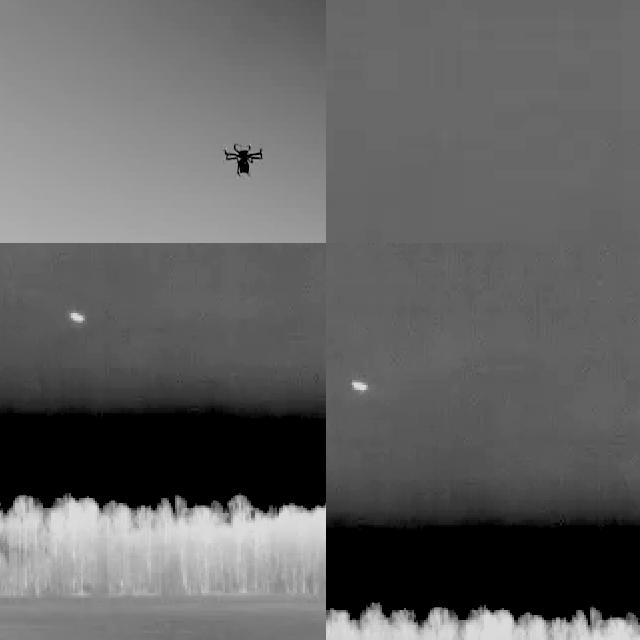1: (57, 304, 93, 334), (341, 375, 377, 405)
drone: (225, 138, 262, 183)
